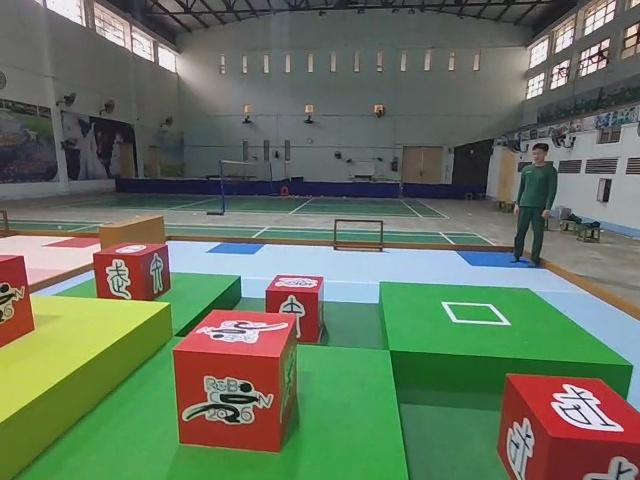R1: (171, 305, 301, 454), (0, 251, 37, 350)
R2 Fake: (91, 237, 173, 303)
R2 Real: (493, 368, 640, 480)
